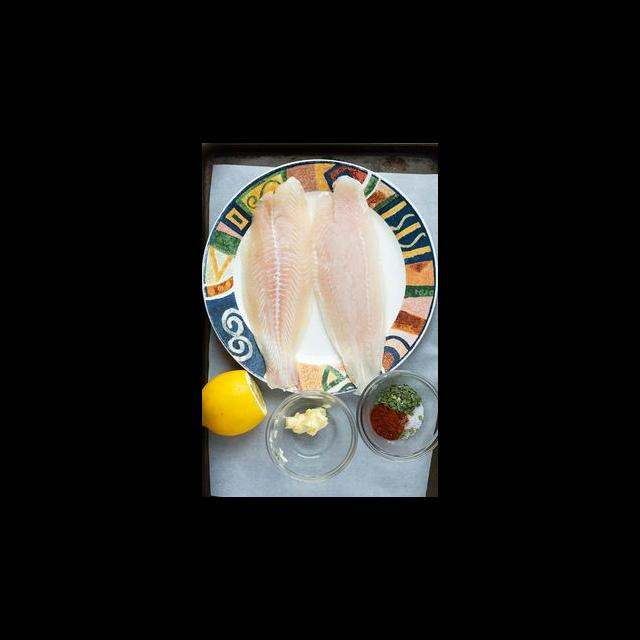fish: (309, 167, 393, 399)
